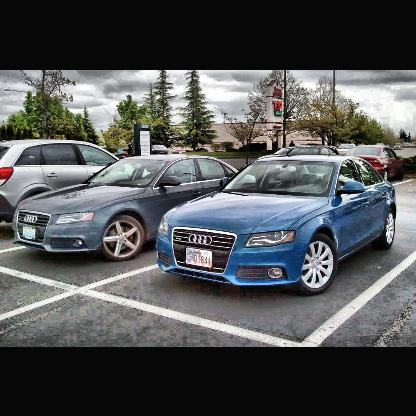Audi S4 Sedan 2012: (158, 156, 399, 295)
